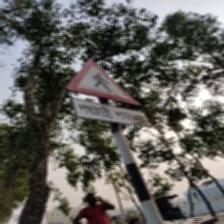Pedestrian-crossing: (66, 59, 149, 128)
